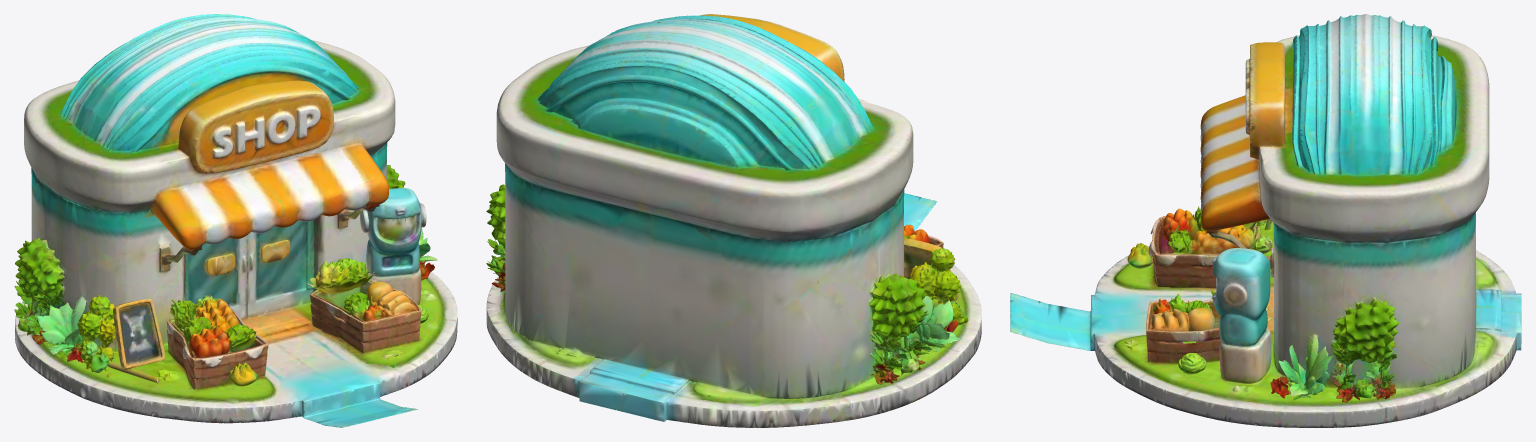
File: Meshy_AI_shop_0323123928_texture_opt.glb
3 views of the same model, side by side, from view 1: azimuth 30°, elevation 25°; view 2: azimuth 150°, elevation 25°; view 3: azimuth 270°, elevation 25° (orthographic). The views are drawn at different scales.
Size of the model in its own units: 1.74 by 1.22 by 1.9.
Materials: 1 (1 with a texture image).
